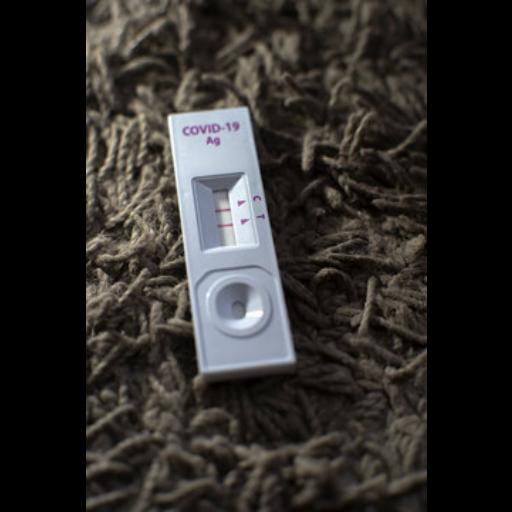Pos: (168, 106, 297, 374)
